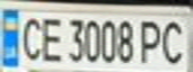0: (81, 16, 103, 64), (100, 16, 121, 63)
3: (63, 15, 84, 63)
8: (115, 16, 139, 64)
C: (157, 16, 190, 66), (15, 12, 45, 63)
E: (36, 13, 66, 64)
P: (136, 16, 166, 65)
